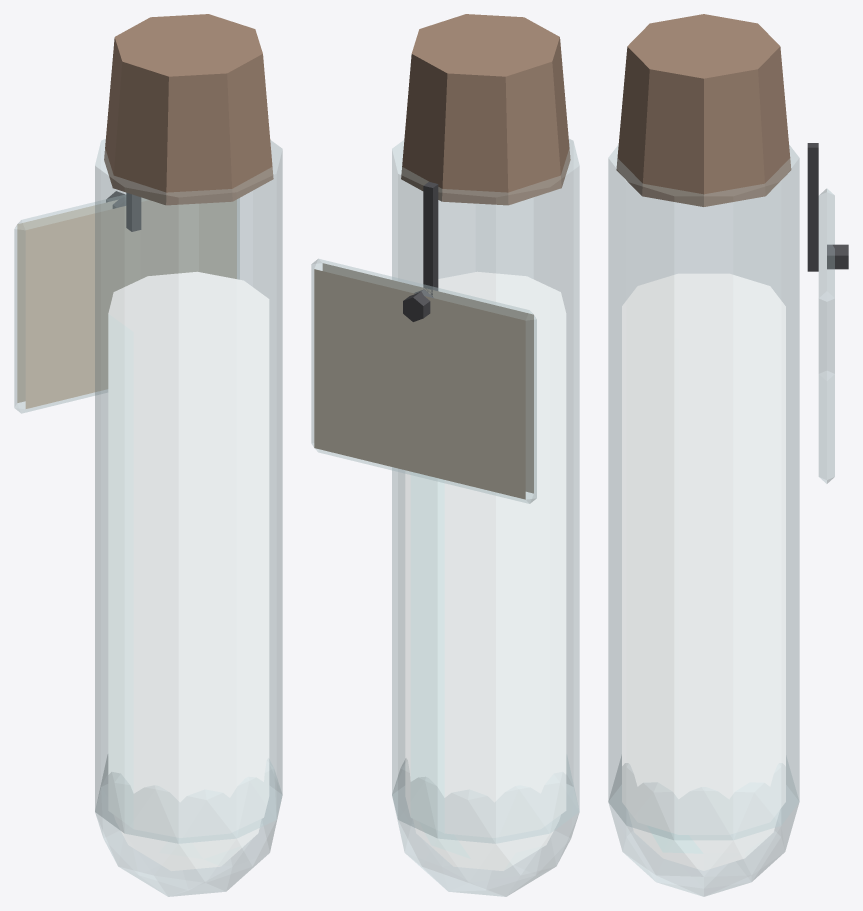
File: Sample_Tube.fbx
The picture shows the model from 3 angles, left to right: view 1: azimuth 30°, elevation 25°; view 2: azimuth 150°, elevation 25°; view 3: azimuth 270°, elevation 25°; orthographic projection.
Parts seen in each view (by area): view 1: Sample_Tube, Liquid.008; view 2: Sample_Tube, Liquid.008; view 3: Sample_Tube, Liquid.008.
Boxes of the visible parts, bbox=[...] form: Sample_Tube: bbox=[14, 14, 282, 896]; Liquid.008: bbox=[108, 271, 269, 871]; Sample_Tube: bbox=[311, 14, 579, 896]; Liquid.008: bbox=[405, 271, 566, 870]; Sample_Tube: bbox=[608, 14, 848, 896]; Liquid.008: bbox=[622, 273, 785, 870].
Size of the model in its own units: 0.095 by 0.34 by 0.088.
